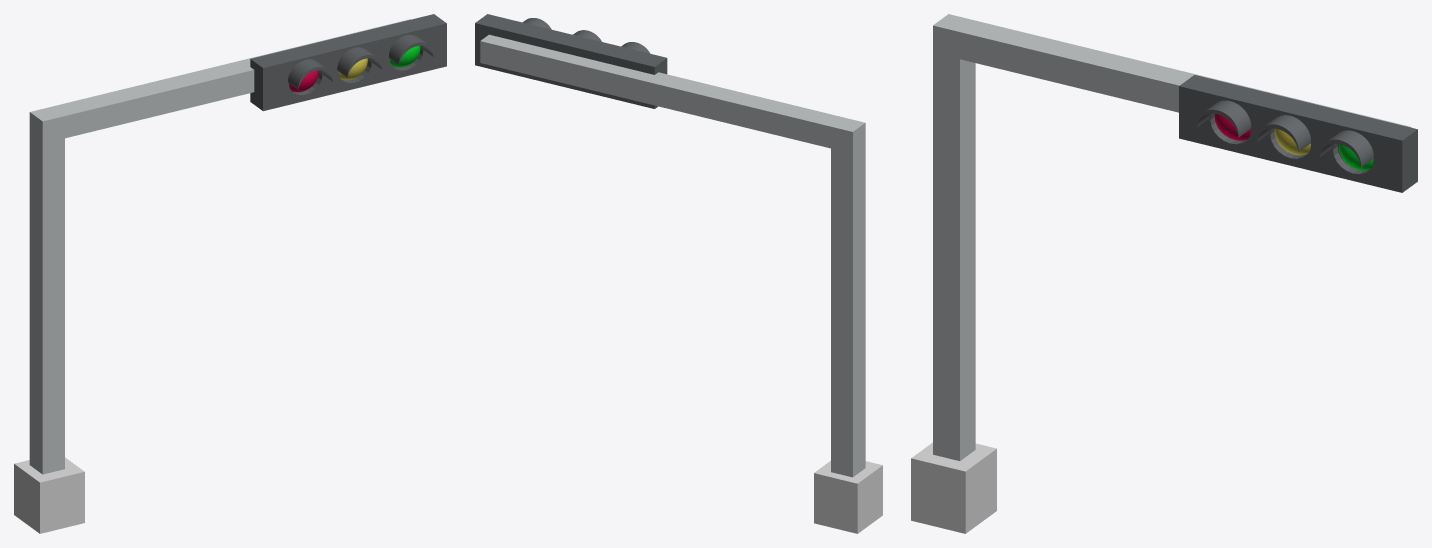
The model's file is traffic_light.gltf.
3 views of the same model, side by side, from view 1: azimuth 30°, elevation 25°; view 2: azimuth 150°, elevation 25°; view 3: azimuth 330°, elevation 25° (orthographic). The views are drawn at different scales.
Parts seen in each view (by area): view 1: Mesh_Mesh_head_geo.001_lambert2SG.001; view 2: Mesh_Mesh_head_geo.001_lambert2SG.001; view 3: Mesh_Mesh_head_geo.001_lambert2SG.001.
Boxes of the visible parts, x1,y1,x2,y2 form: Mesh_Mesh_head_geo.001_lambert2SG.001: (14, 14, 446, 533); Mesh_Mesh_head_geo.001_lambert2SG.001: (475, 14, 882, 533); Mesh_Mesh_head_geo.001_lambert2SG.001: (911, 14, 1417, 533).
Size of the model in its own units: 181 by 176 by 29.
